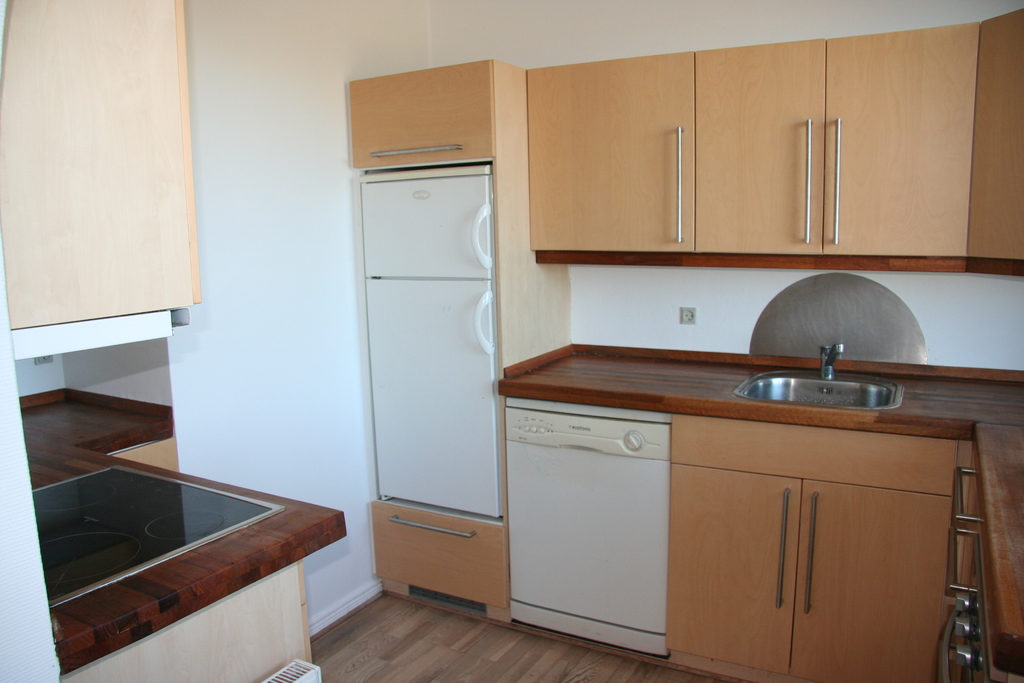cabinet door: (526, 68, 696, 258), (822, 47, 968, 254), (801, 479, 939, 683), (698, 54, 824, 257), (675, 471, 796, 666), (374, 501, 503, 605), (349, 81, 494, 160)
handle: (943, 526, 990, 599), (386, 513, 478, 542), (946, 463, 984, 527), (772, 485, 790, 609), (468, 286, 498, 357), (669, 124, 686, 241), (806, 489, 822, 611), (367, 140, 467, 159), (825, 116, 840, 241), (470, 200, 498, 264), (803, 121, 814, 239)
refrigerator door: (370, 283, 498, 511), (363, 180, 495, 282)
